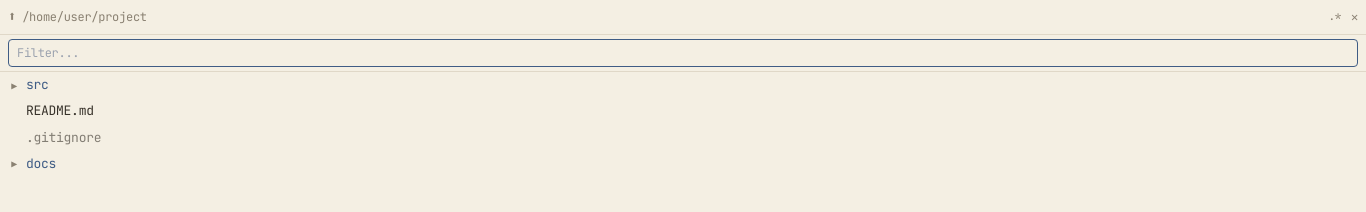
Test case: FileBrowser › expands a directory on click
The width and height of the screenshot is (1366, 212).
Step 1. Click the text "src" → coordinates (37, 85), box x1=26 y1=75 x2=49 y2=95
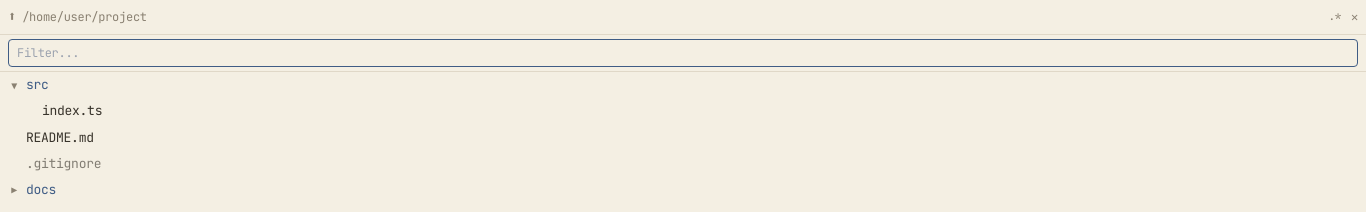
Result: the text "index.ts" is shown at x1=42 y1=101 x2=102 y2=122
